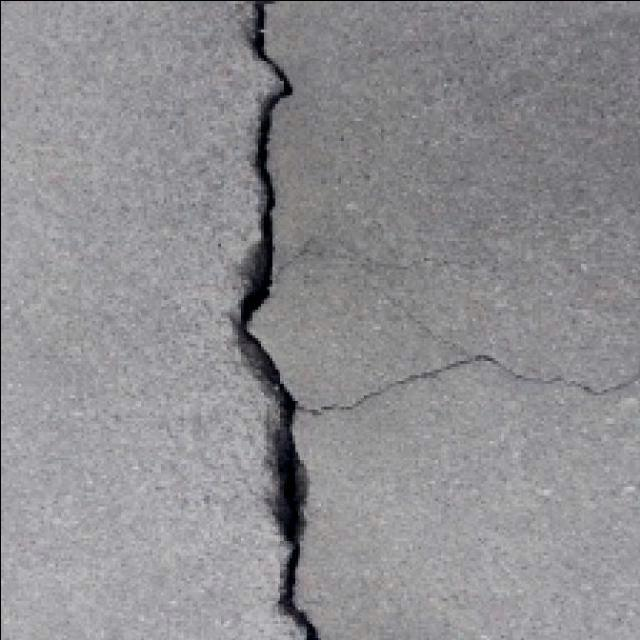SurfaceCrack: (200, 0, 358, 640), (276, 300, 640, 450)
